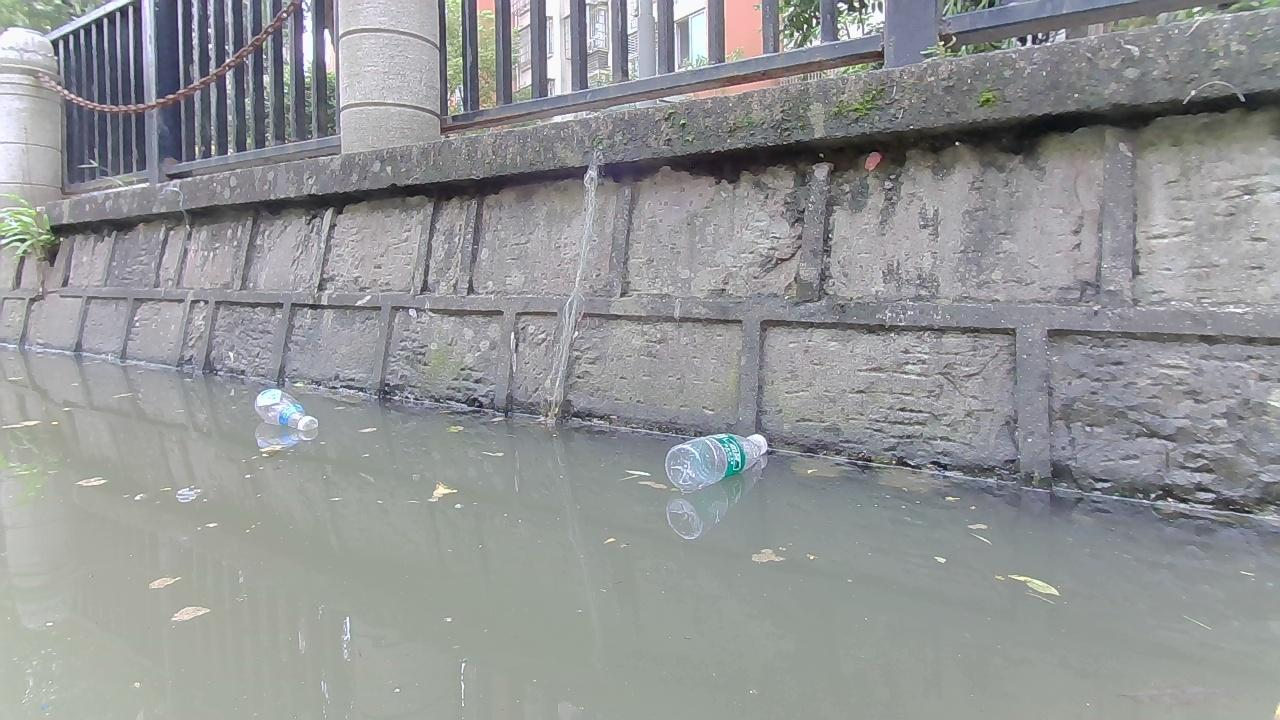bottle: (664, 430, 769, 489), (251, 388, 316, 431)
